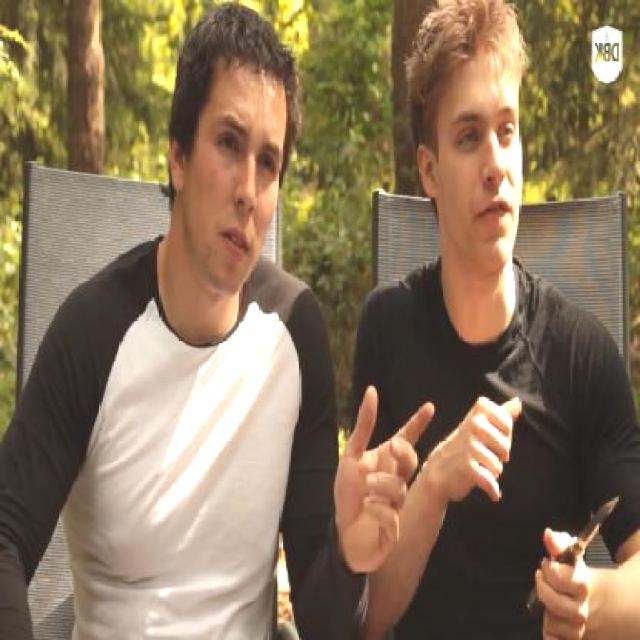knife: (511, 482, 626, 628)
